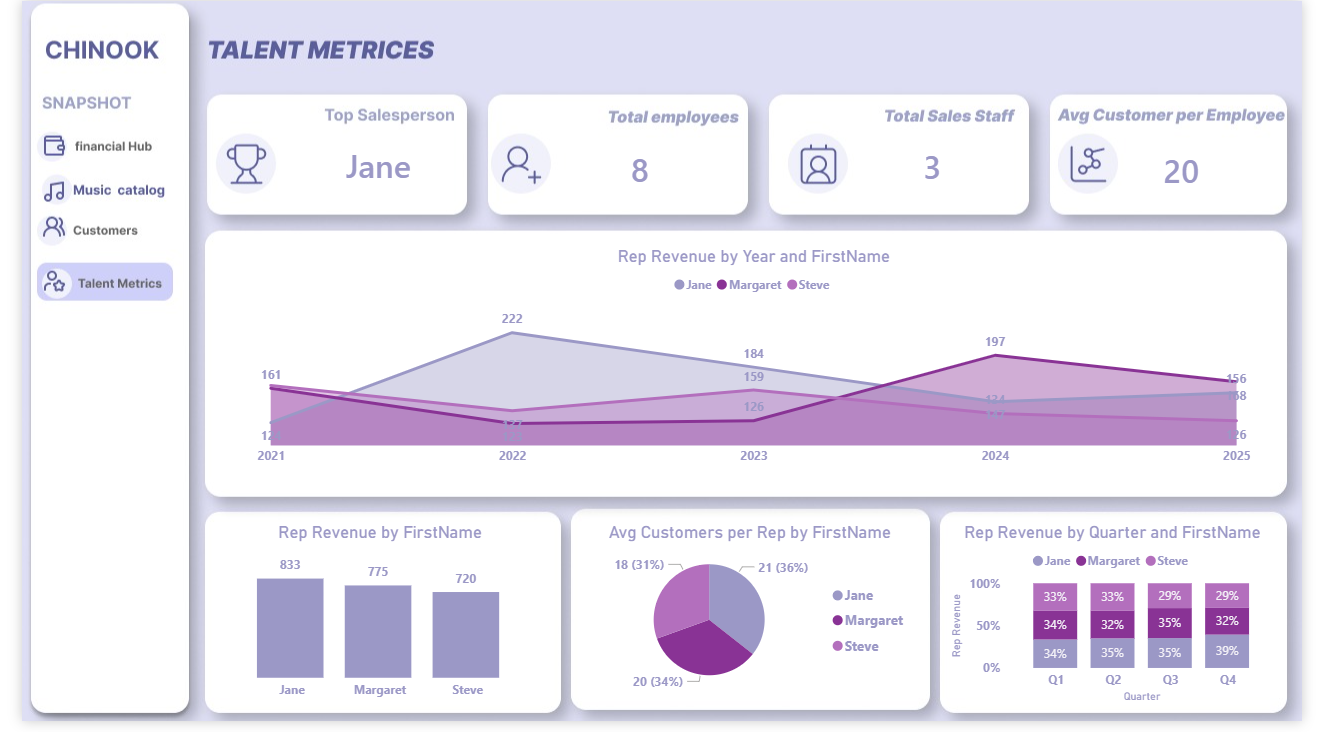

The page's visual inventory and layout, read from the dashboard file:
{"tool":"powerbi","page":{"name":"Page 4","canvas":[1280,720],"ordinal":3},"visuals":[{"type":"cardVisual","fields":{"Data":["DAX.Top Rep"]},"box":[295.2,127.4,126.2,71.4],"z":0},{"type":"cardVisual","fields":{"Data":["DAX.Sales Reps"]},"box":[579.8,134.5,121.4,64.3],"z":1000},{"type":"cardVisual","fields":{"Data":["DAX.daxSales Reps"]},"box":[872.6,127.4,101.2,73.8],"z":2000},{"type":"cardVisual","fields":{"Data":["DAX.Avg Customers per Rep"]},"box":[1113.1,134.5,132.1,66.7],"z":3000},{"type":"columnChart","fields":{"Category":["employee.FirstName"],"Y":["DAX.Rep Revenue"]},"box":[195.2,521.4,326.2,185.7],"z":4000},{"type":"pieChart","fields":{"Category":["employee.FirstName"],"Y":["DAX.Avg Customers per Rep"]},"box":[559.5,521.4,335.7,176.2],"z":5000},{"type":"hundredPercentStackedColumnChart","fields":{"Category":["invoice.Quarter"],"Y":["DAX.Rep Revenue"],"Series":["employee.FirstName"]},"box":[923.8,521.4,333.3,185.7],"z":6000},{"type":"areaChart","fields":{"Y":["DAX.Rep Revenue"],"Category":["invoice.Year"],"Series":["employee.FirstName"]},"box":[229.8,245.2,1003.6,228.6],"z":7000}]}

Visuals, with their boxes on the page's 1280x720 design canvas (x1, y1, x2, y2). These are canvas units, not pixel positions in the 1317x732 screenshot, which may show the page scaled, cropped or inside an application window:
cardVisual - DAX.Top Rep: x1=295 y1=127 x2=421 y2=199
cardVisual - DAX.Sales Reps: x1=580 y1=134 x2=701 y2=199
cardVisual - DAX.daxSales Reps: x1=873 y1=127 x2=974 y2=201
cardVisual - DAX.Avg Customers per Rep: x1=1113 y1=134 x2=1245 y2=201
columnChart - employee.FirstName x DAX.Rep Revenue: x1=195 y1=521 x2=521 y2=707
pieChart - employee.FirstName x DAX.Avg Customers per Rep: x1=560 y1=521 x2=895 y2=698
hundredPercentStackedColumnChart - invoice.Quarter x DAX.Rep Revenue: x1=924 y1=521 x2=1257 y2=707
areaChart - DAX.Rep Revenue x invoice.Year: x1=230 y1=245 x2=1233 y2=474
